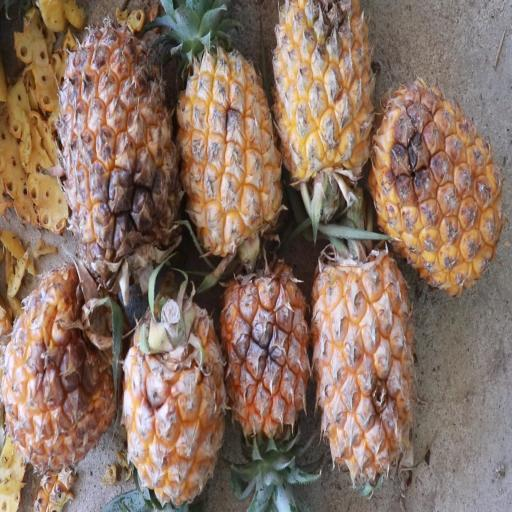Pineapple - v8 v1: (56, 6, 186, 300), (166, 0, 286, 272), (369, 67, 506, 302), (309, 232, 420, 488), (4, 256, 124, 492), (121, 271, 232, 512), (220, 252, 314, 506), (273, 4, 377, 199)
